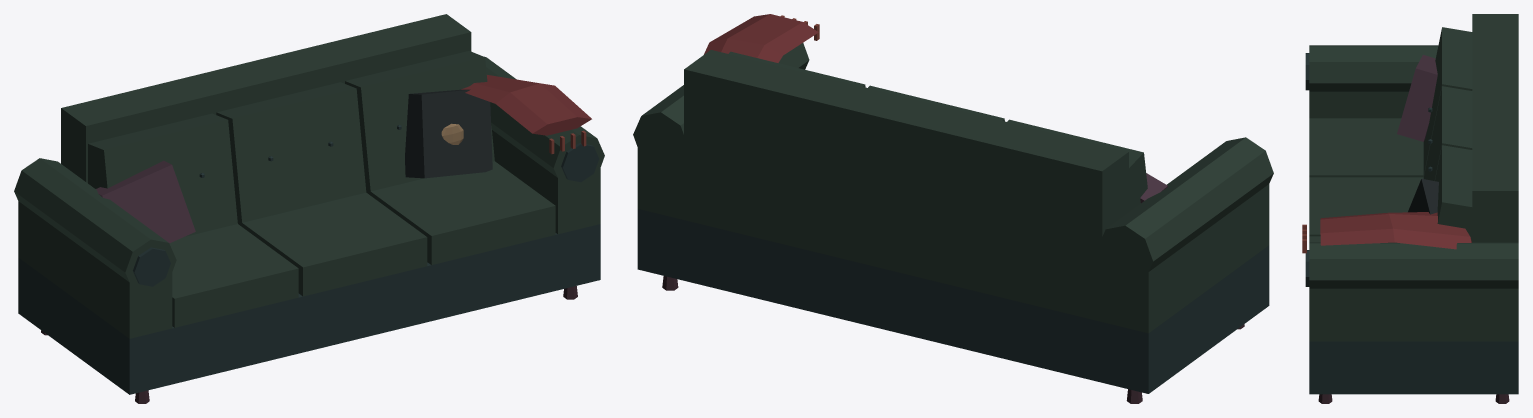
Rendered from canapea.glb.
3 renders of one model, left to right at view 1: azimuth 30°, elevation 25°; view 2: azimuth 150°, elevation 25°; view 3: azimuth 270°, elevation 25°, orthographic. The views are drawn at different scales.
Visible parts, largest first — view 1: Canapea; view 2: Canapea; view 3: Canapea.
Boxes of the visible parts, x1,y1,x2,y2 form: Canapea: [14, 14, 604, 403]; Canapea: [633, 14, 1273, 403]; Canapea: [1302, 14, 1518, 403].
Size of the model in its own units: 2.24 by 0.95 by 0.93.
